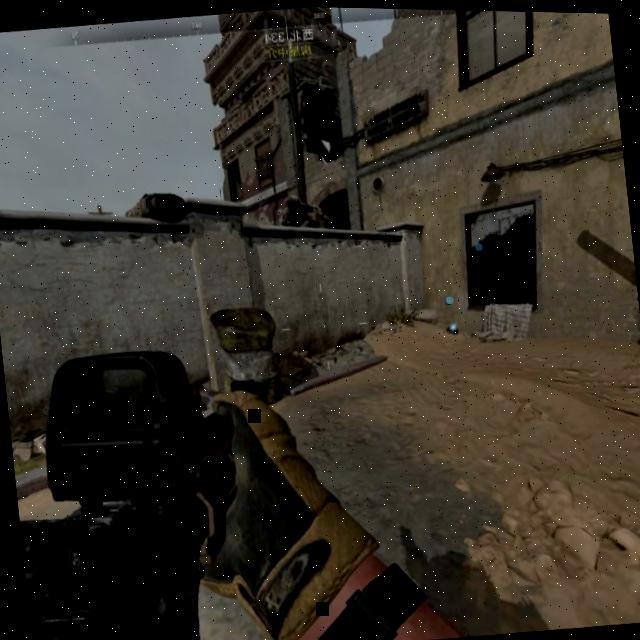MW2_body: (278, 191, 324, 232)
